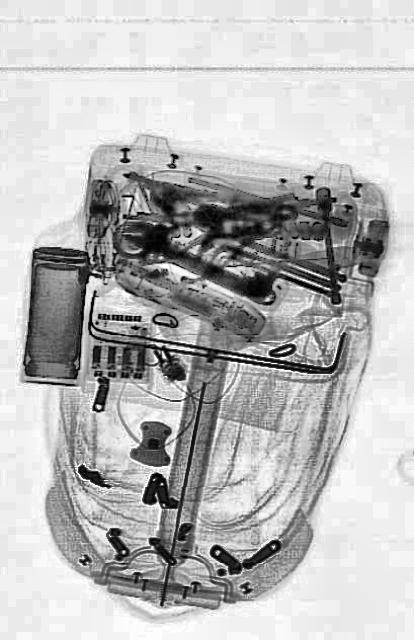Wrench: (124, 212, 278, 314)
